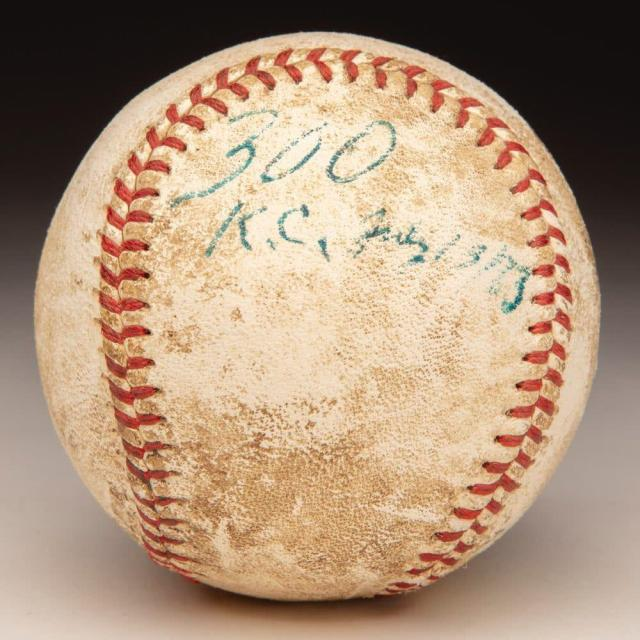baseball: (31, 28, 602, 601)
